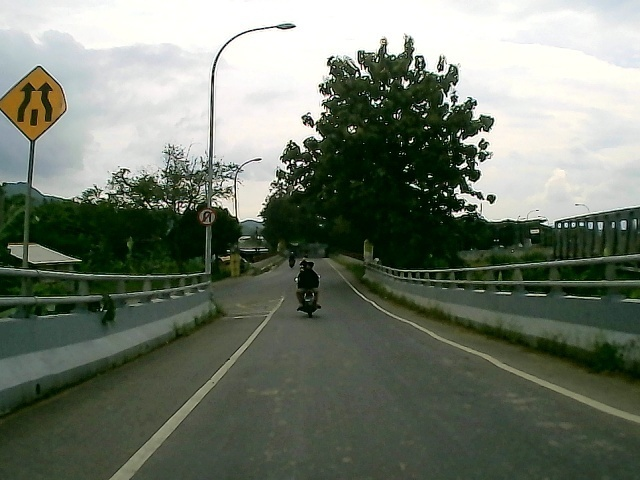Akhir bangunan pemisah satu arah: (1, 64, 71, 147)
Dilarang berbalik arah: (197, 208, 216, 226)
